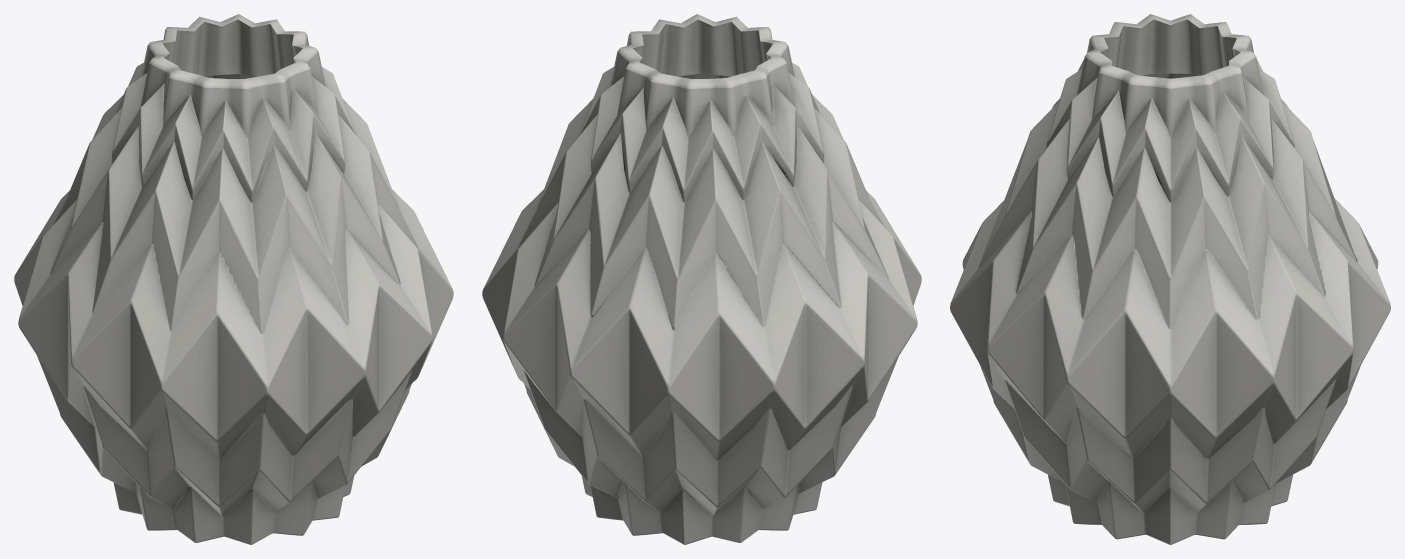
File: vase.glb
The picture shows the model from 3 angles, left to right: view 1: azimuth 30°, elevation 25°; view 2: azimuth 150°, elevation 25°; view 3: azimuth 270°, elevation 25°; orthographic projection.
Visible parts, largest first — view 1: RootNode; view 2: RootNode; view 3: RootNode.
Part boxes in pixels (x1,y1,x2,y2): RootNode: (14,14,453,544); RootNode: (482,14,921,544); RootNode: (950,14,1390,544).
Size of the model in its own units: 0.1624 by 0.1851 by 0.1636.
Materials: 1 (1 with a texture image).
